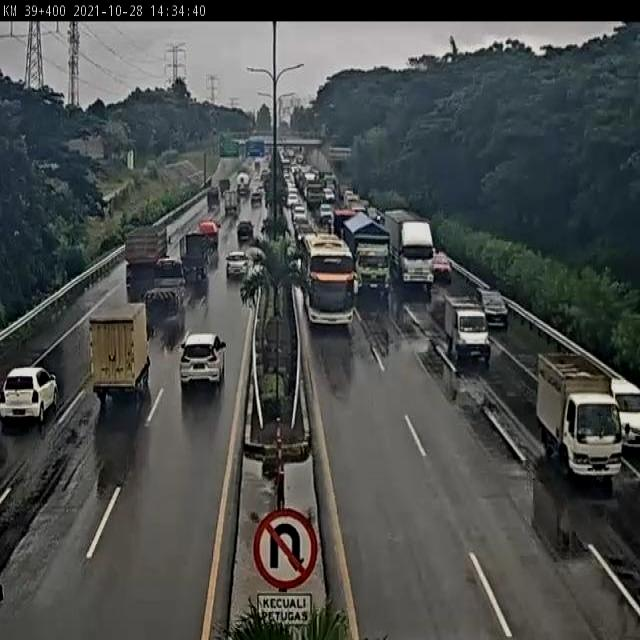Bus: (298, 229, 360, 328)
Car: (0, 362, 58, 423), (178, 331, 227, 386), (608, 375, 640, 448), (472, 284, 509, 330), (429, 246, 453, 279), (225, 249, 249, 281), (236, 219, 253, 242), (292, 203, 309, 224), (251, 188, 263, 204), (152, 367, 162, 367)
Truck: (533, 348, 630, 485), (87, 301, 156, 402), (341, 210, 393, 300), (383, 207, 437, 290), (442, 291, 492, 365), (124, 222, 171, 273), (143, 254, 185, 310), (177, 231, 212, 278), (329, 206, 356, 237), (304, 181, 324, 208), (223, 191, 240, 216), (236, 170, 251, 196)
